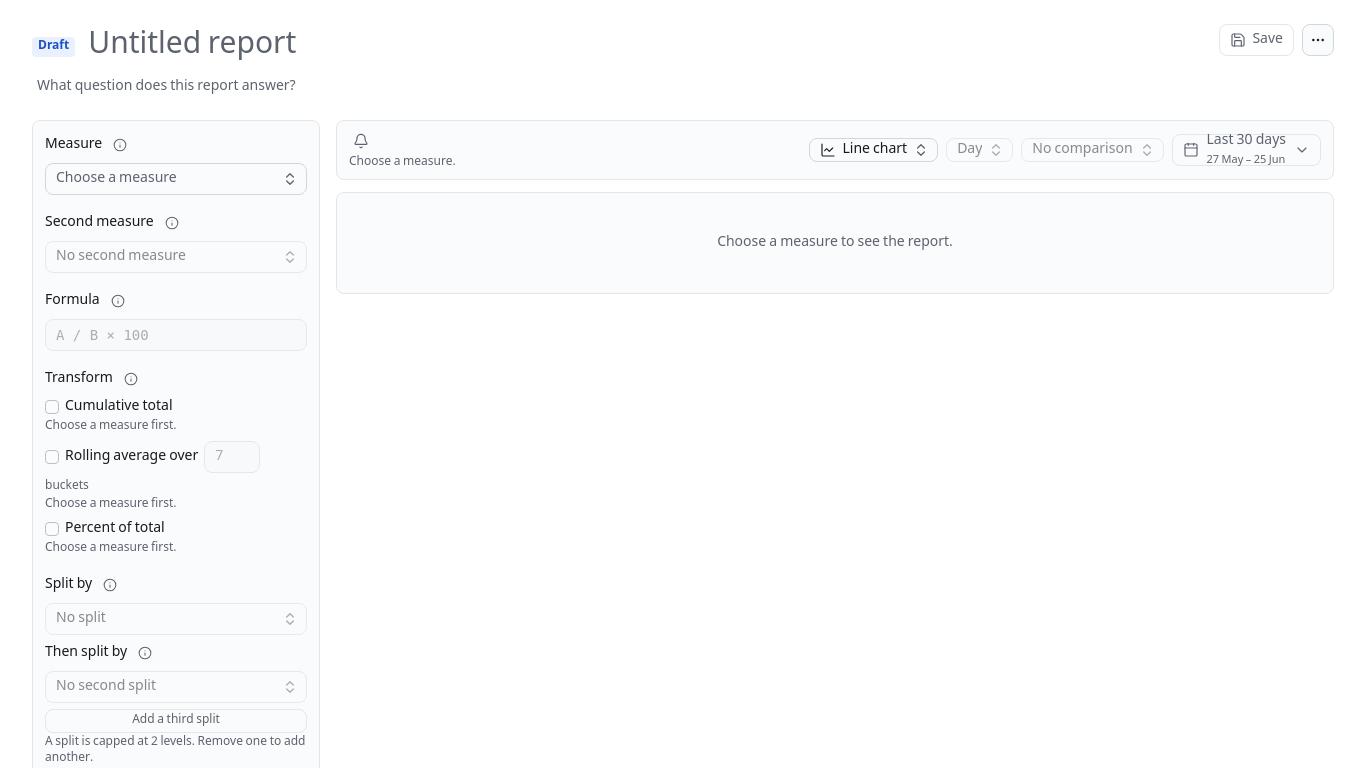
the builder can hand someone the question it is showing › offers no link for a question that cannot be run
The width and height of the screenshot is (1366, 768).
Click the button named "More actions".
click(1318, 40)  # box x1=1302 y1=24 x2=1334 y2=56
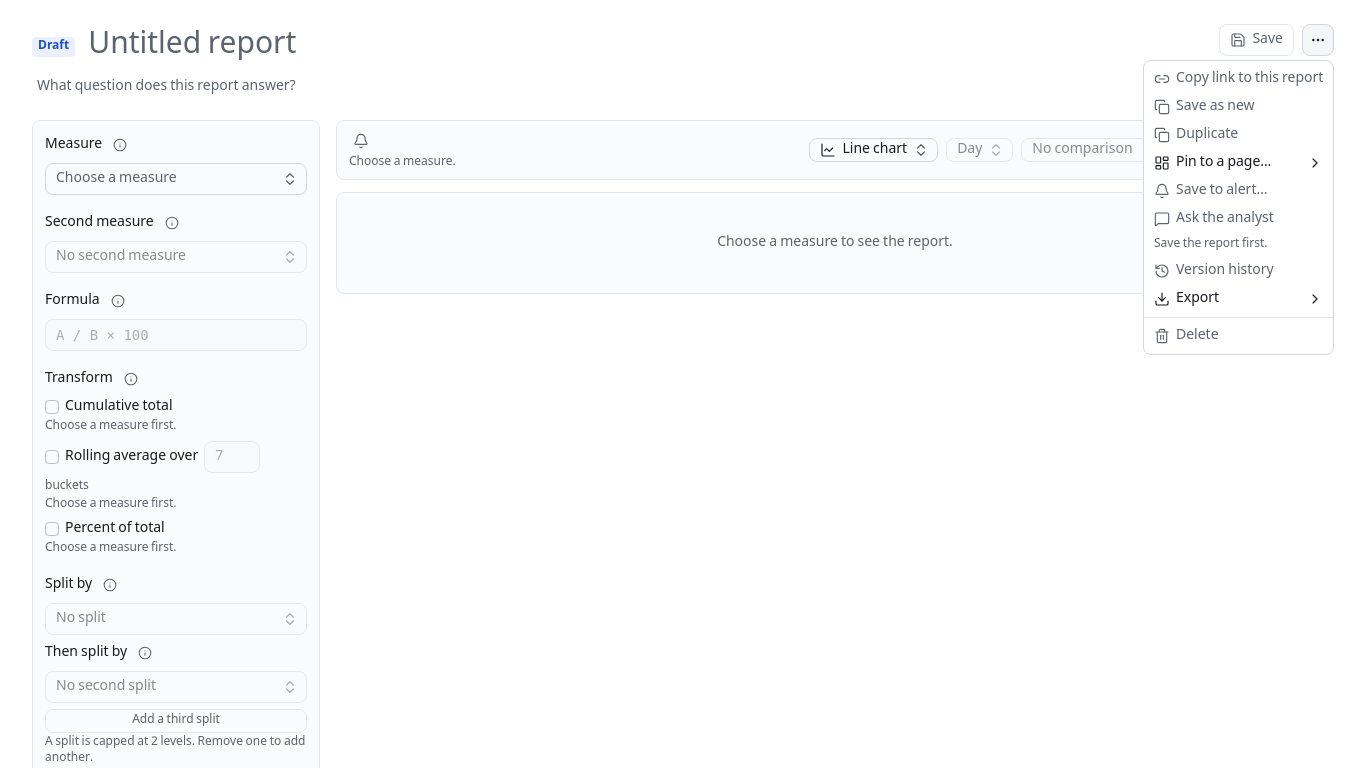
Check: the menu item "Copy link to this report" is shown, box x1=1148 y1=65 x2=1329 y2=93
